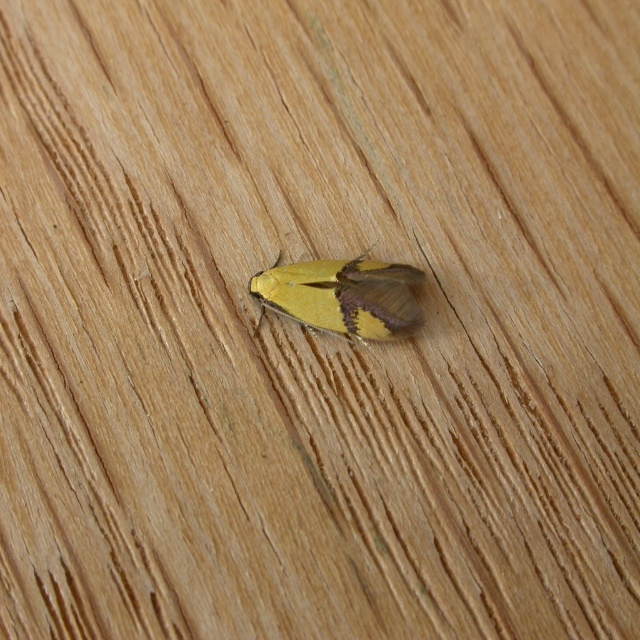Moths and butterflies: (247, 245, 426, 356)
